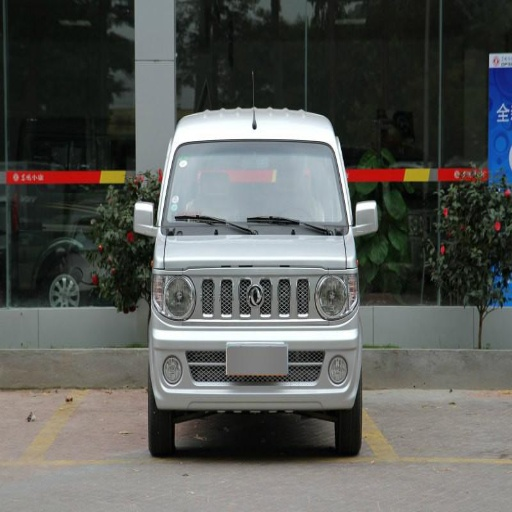front_bumper: (155, 273, 355, 403)
hood: (159, 236, 347, 274)
